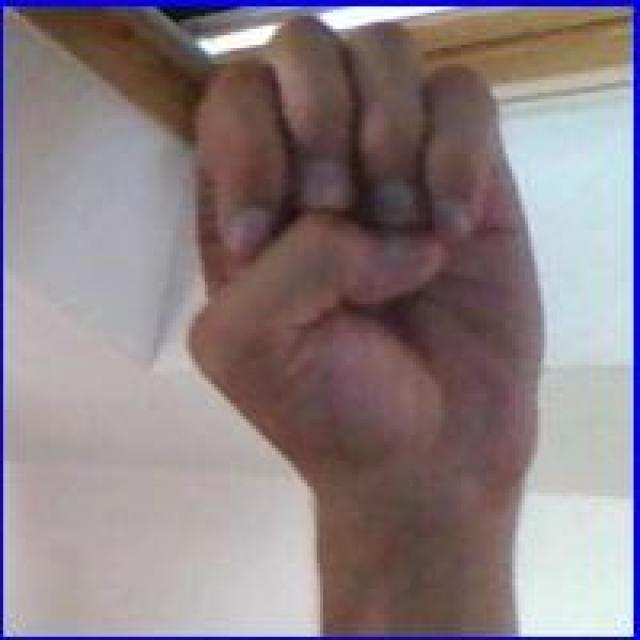E: (173, 14, 550, 476)
